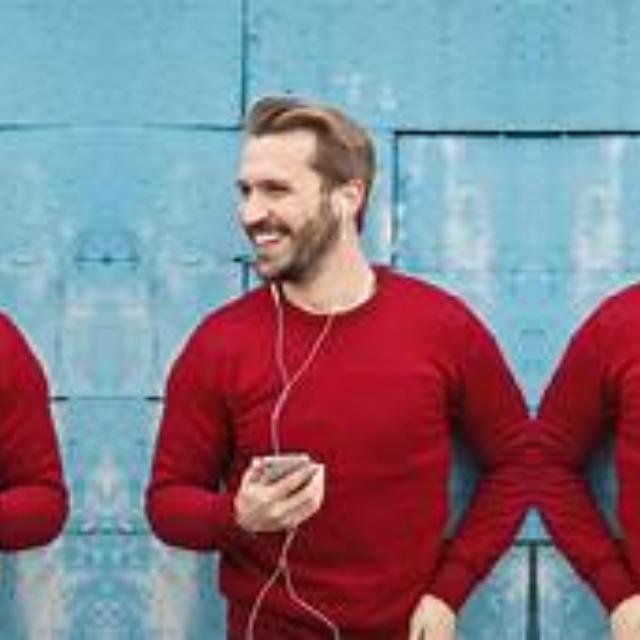person: (180, 89, 472, 635), (593, 89, 640, 635), (0, 89, 32, 635)
